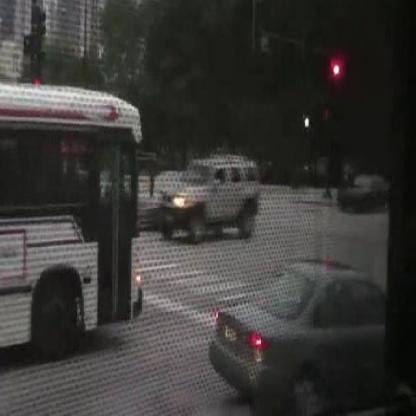other: (166, 180, 196, 224), (322, 44, 348, 86)
